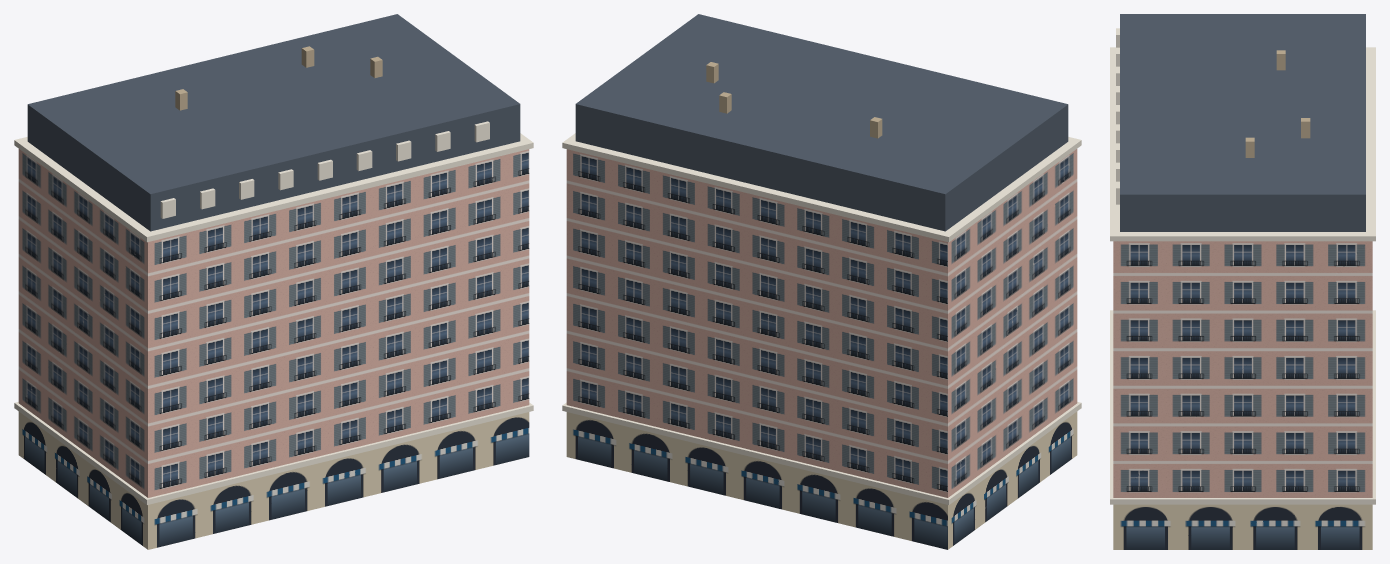
The model's file is belle_epoque_d.glb.
3 renders of one model, left to right at view 1: azimuth 30°, elevation 25°; view 2: azimuth 150°, elevation 25°; view 3: azimuth 270°, elevation 25°, orthographic.
Visible parts, largest first — view 1: building; view 2: building; view 3: building.
Boxes of the visible parts, x1,y1,x2,y2 form: building: (14, 14, 533, 549); building: (562, 14, 1081, 549); building: (1110, 14, 1375, 549).
Size of the model in its own units: 34.5 by 31.4 by 20.5.
Materials: 5 (2 with a texture image).
